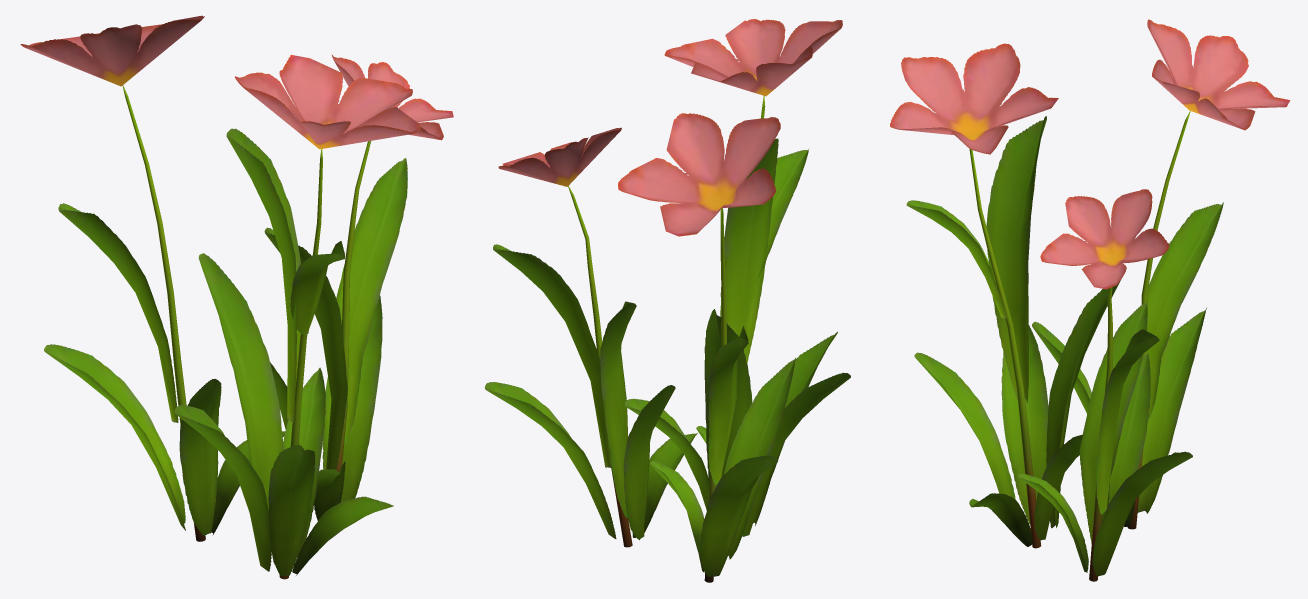
File: Flower_3_Group.glb
3 views of the same model, side by side, from view 1: azimuth 30°, elevation 25°; view 2: azimuth 150°, elevation 25°; view 3: azimuth 270°, elevation 25° (orthographic). The views are drawn at different scales.
Visible parts, largest first — view 1: Flower_3_Group; view 2: Flower_3_Group; view 3: Flower_3_Group.
Boxes of the visible parts, box(x1,y1,x2,y2) form: Flower_3_Group: box(20, 15, 453, 579); Flower_3_Group: box(484, 19, 850, 582); Flower_3_Group: box(890, 19, 1290, 581).
Size of the model in its own units: 1.49 by 2.05 by 1.59.
Materials: 2 (2 with a texture image).
